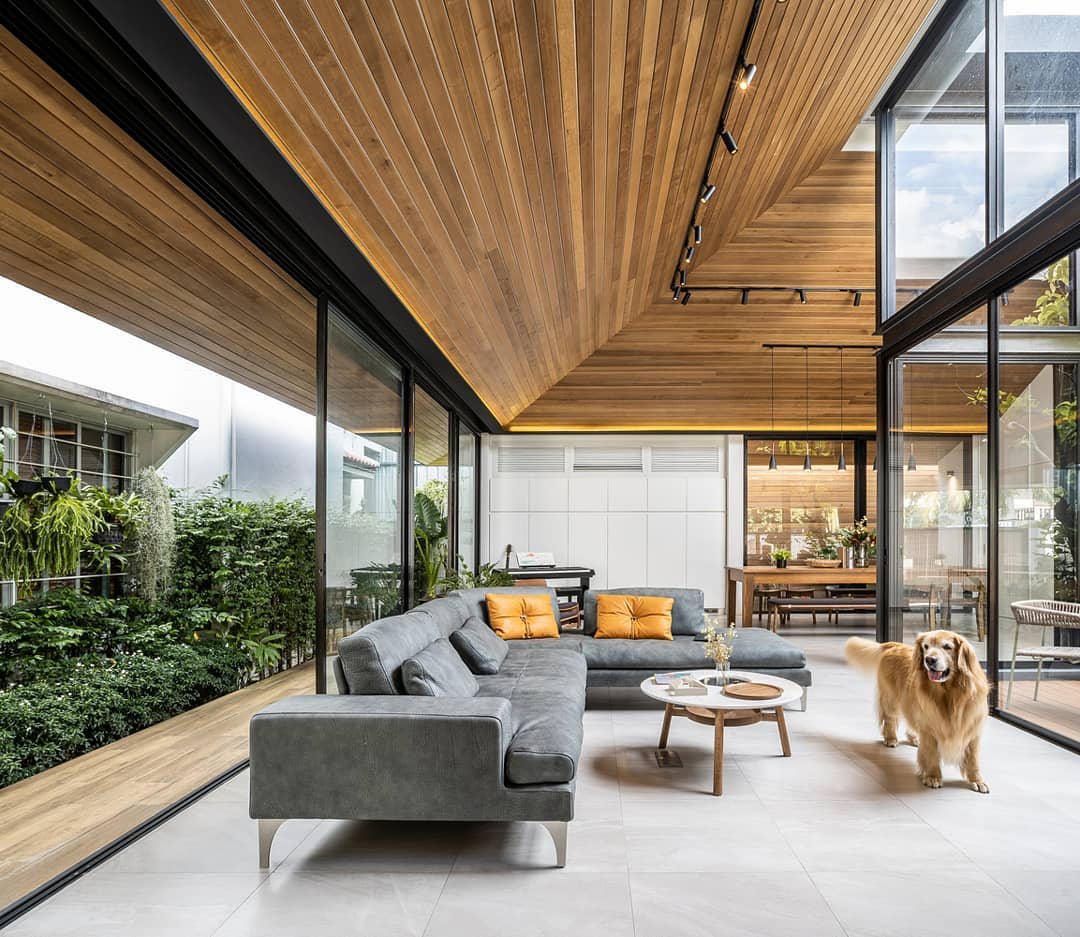dog: (844, 623, 1009, 809)
meja: (643, 656, 799, 798)
sova: (260, 571, 815, 869)
tanaman: (1, 616, 242, 758), (176, 493, 313, 688), (2, 492, 135, 573), (1, 594, 139, 665), (403, 446, 455, 607)
